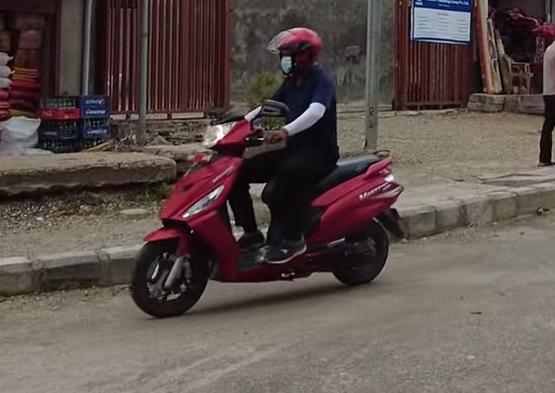scooter: (123, 93, 411, 324)
